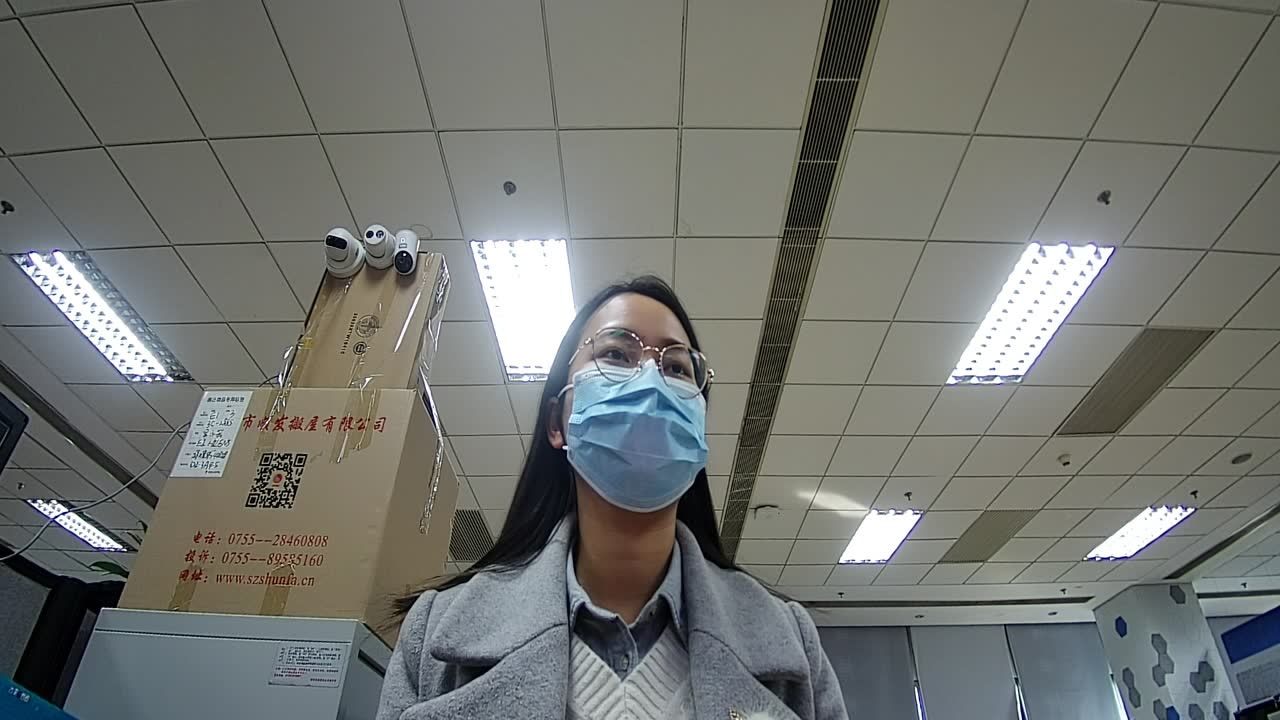face: (554, 298, 735, 494)
mask: (574, 373, 708, 497)
person: (418, 275, 825, 719)
